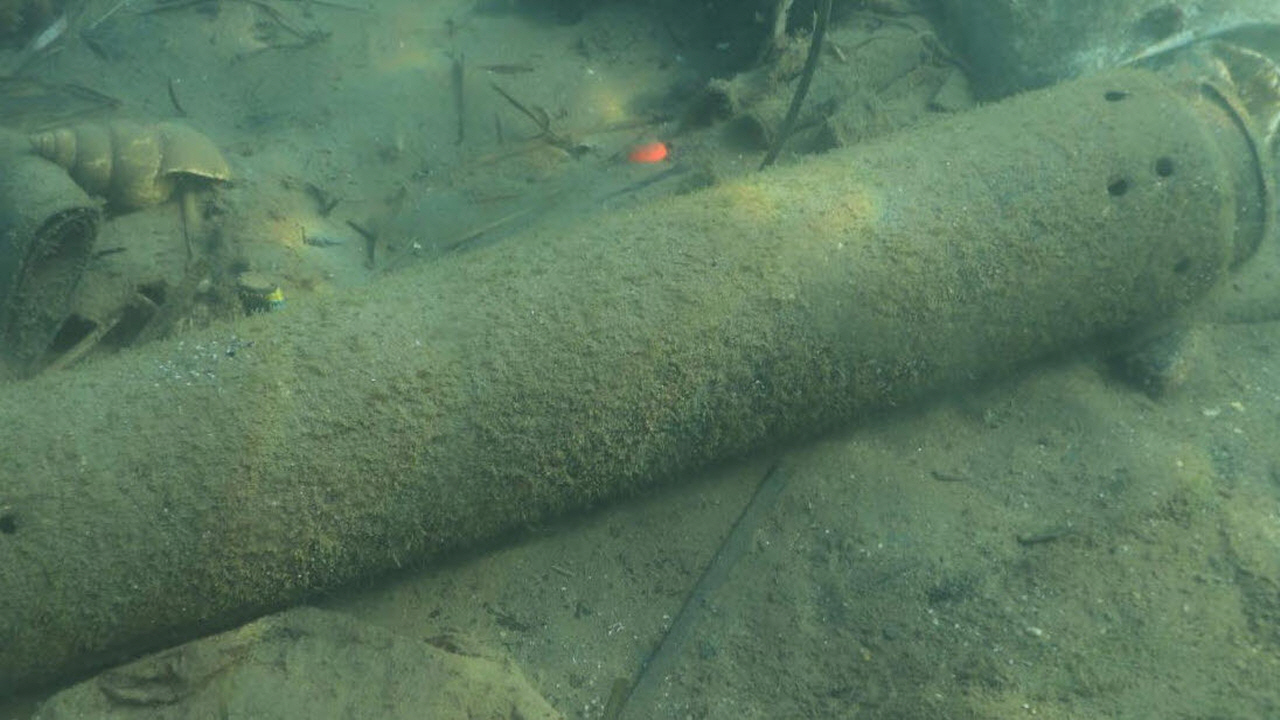eel fish trap: (0, 65, 1271, 705)
